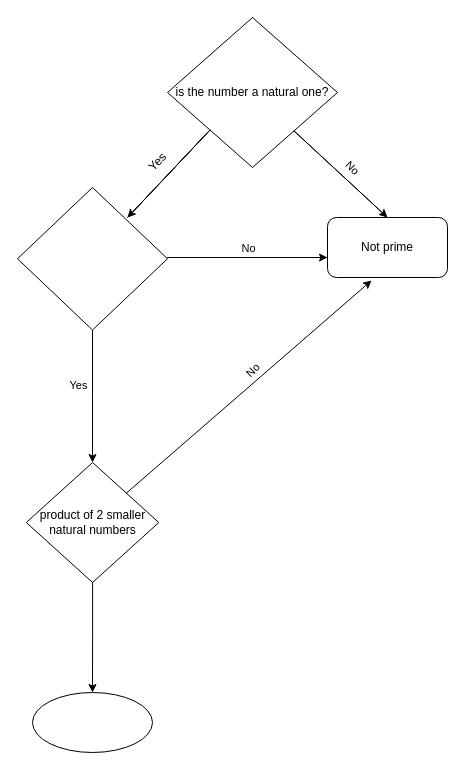
The diagram is 465 pixels wide and 770 high, and some of its shapes have lost their labels. The shapes that lost their labels are listed below. From the top down, each one's centre as x and y in pixels, then its label:
At point (92, 258): "is it greater than one?".
At point (92, 722): "It's prime".
